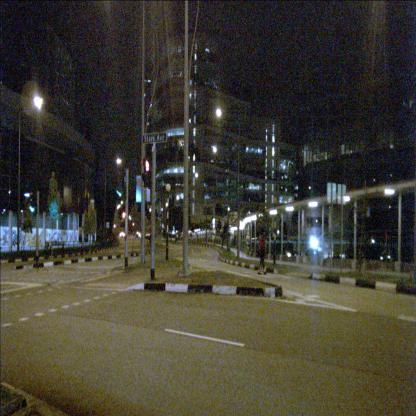human-pedestrian-adult: (258, 228, 268, 276), (246, 232, 251, 258)
vehicle-car: (120, 230, 125, 238), (136, 230, 141, 238)
